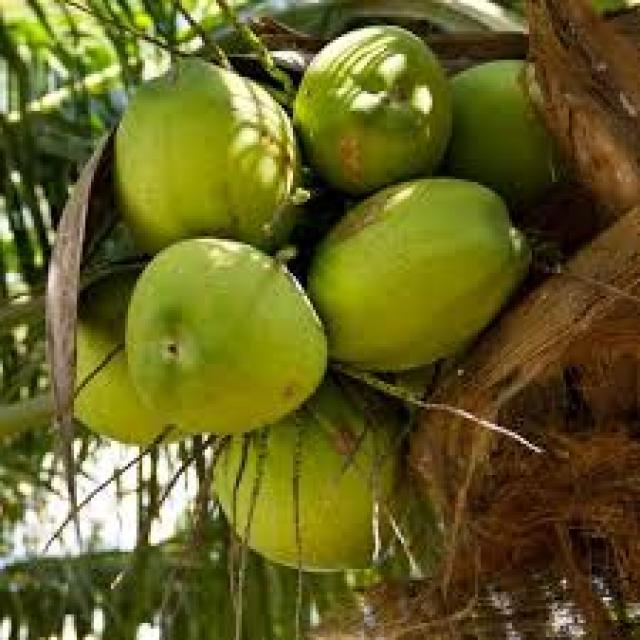coconut: (315, 180, 521, 366), (122, 242, 319, 432), (112, 57, 296, 240), (299, 23, 453, 180)
